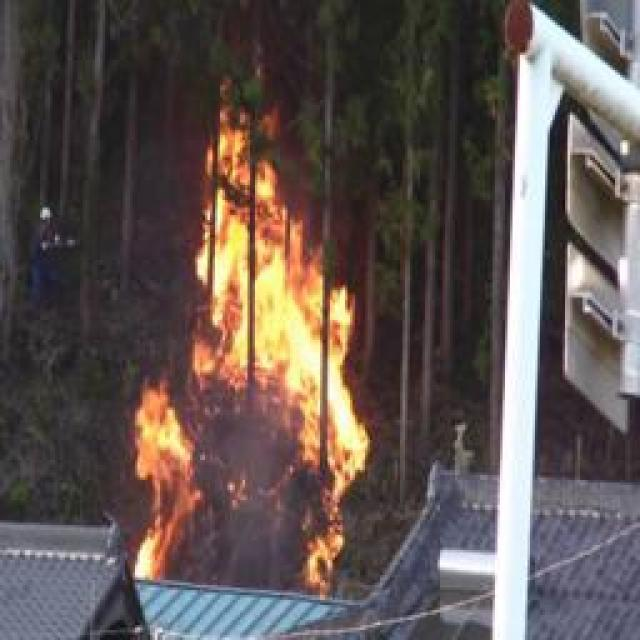Fire: (138, 112, 361, 590)
